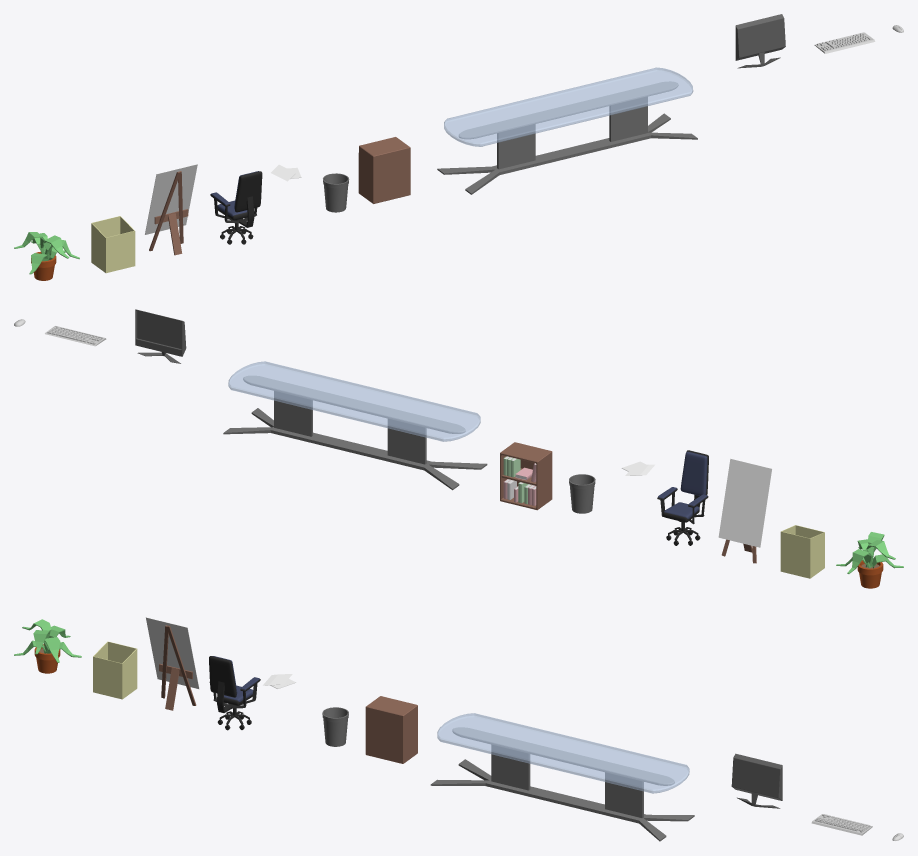
Rendered from low_poly_meeting_room_assets.glb.
3 renders of one model, top to bottom at view 1: azimuth 30°, elevation 25°; view 2: azimuth 150°, elevation 25°; view 3: azimuth 330°, elevation 25°, orthographic.
Visible parts, largest first — view 1: pCylinder32, pCube298, pCube142, pCylinder33, square_bin, white, pCube19, pCube141, pCube140, round_bin, pCube135; view 2: pCylinder32, white, pCube142, pCylinder33, square_bin, pCube298, pCube19, pCube141, pCube140, pCube131, round_bin; view 3: pCylinder32, pCube298, pCube142, pCylinder33, square_bin, white, pCube19, pCube141, pCube140, round_bin, pCube135, pCube137.
Part boxes in pixels (bbox=[...]): pCylinder32: bbox=[444, 67, 693, 146]; pCube298: bbox=[358, 137, 410, 203]; pCube142: bbox=[437, 113, 697, 194]; pCylinder33: bbox=[459, 81, 678, 138]; square_bin: bbox=[91, 216, 135, 273]; white: bbox=[145, 164, 197, 234]; pCube19: bbox=[735, 14, 785, 60]; pCube141: bbox=[497, 124, 535, 169]; pCube140: bbox=[609, 97, 647, 141]; round_bin: bbox=[323, 173, 349, 212]; pCube135: bbox=[235, 171, 262, 212]; pCylinder32: bbox=[228, 361, 480, 441]; white: bbox=[718, 458, 771, 547]; pCube142: bbox=[223, 408, 487, 490]; pCylinder33: bbox=[243, 376, 465, 433]; square_bin: bbox=[780, 525, 824, 578]; pCube298: bbox=[500, 442, 552, 510]; pCube19: bbox=[135, 309, 186, 356]; pCube141: bbox=[387, 419, 426, 464]; pCube140: bbox=[274, 391, 312, 436]; pCube131: bbox=[680, 451, 707, 495]; round_bin: bbox=[569, 474, 595, 513]; pCylinder32: bbox=[437, 713, 689, 793]; pCube298: bbox=[365, 696, 417, 763]; pCube142: bbox=[430, 759, 694, 841]; pCylinder33: bbox=[452, 727, 674, 785]; square_bin: bbox=[93, 641, 137, 699]; white: bbox=[145, 617, 199, 688]; pCube19: bbox=[731, 753, 782, 800]; pCube141: bbox=[491, 745, 530, 790]; pCube140: bbox=[605, 772, 643, 817]; round_bin: bbox=[322, 707, 348, 746]; pCube135: bbox=[209, 656, 236, 697]; pCube137: bbox=[213, 681, 257, 712].
Bounding box in the file's own units: 116 × 11.83 × 9.53.
